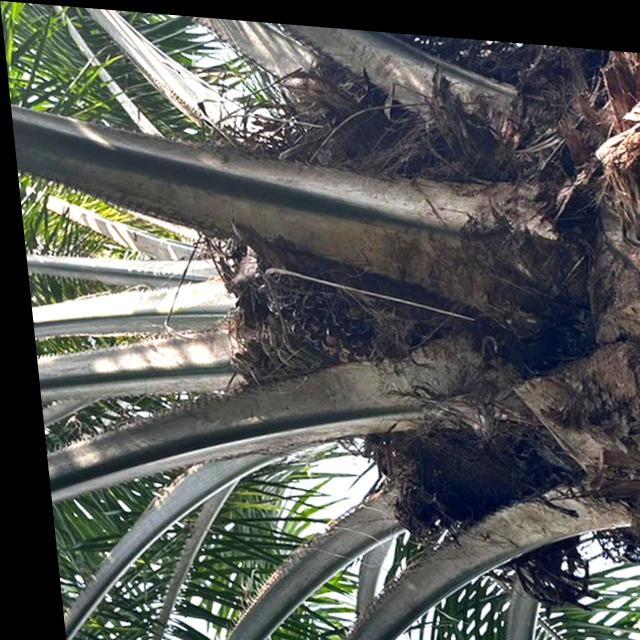almost: (243, 245, 409, 375)
